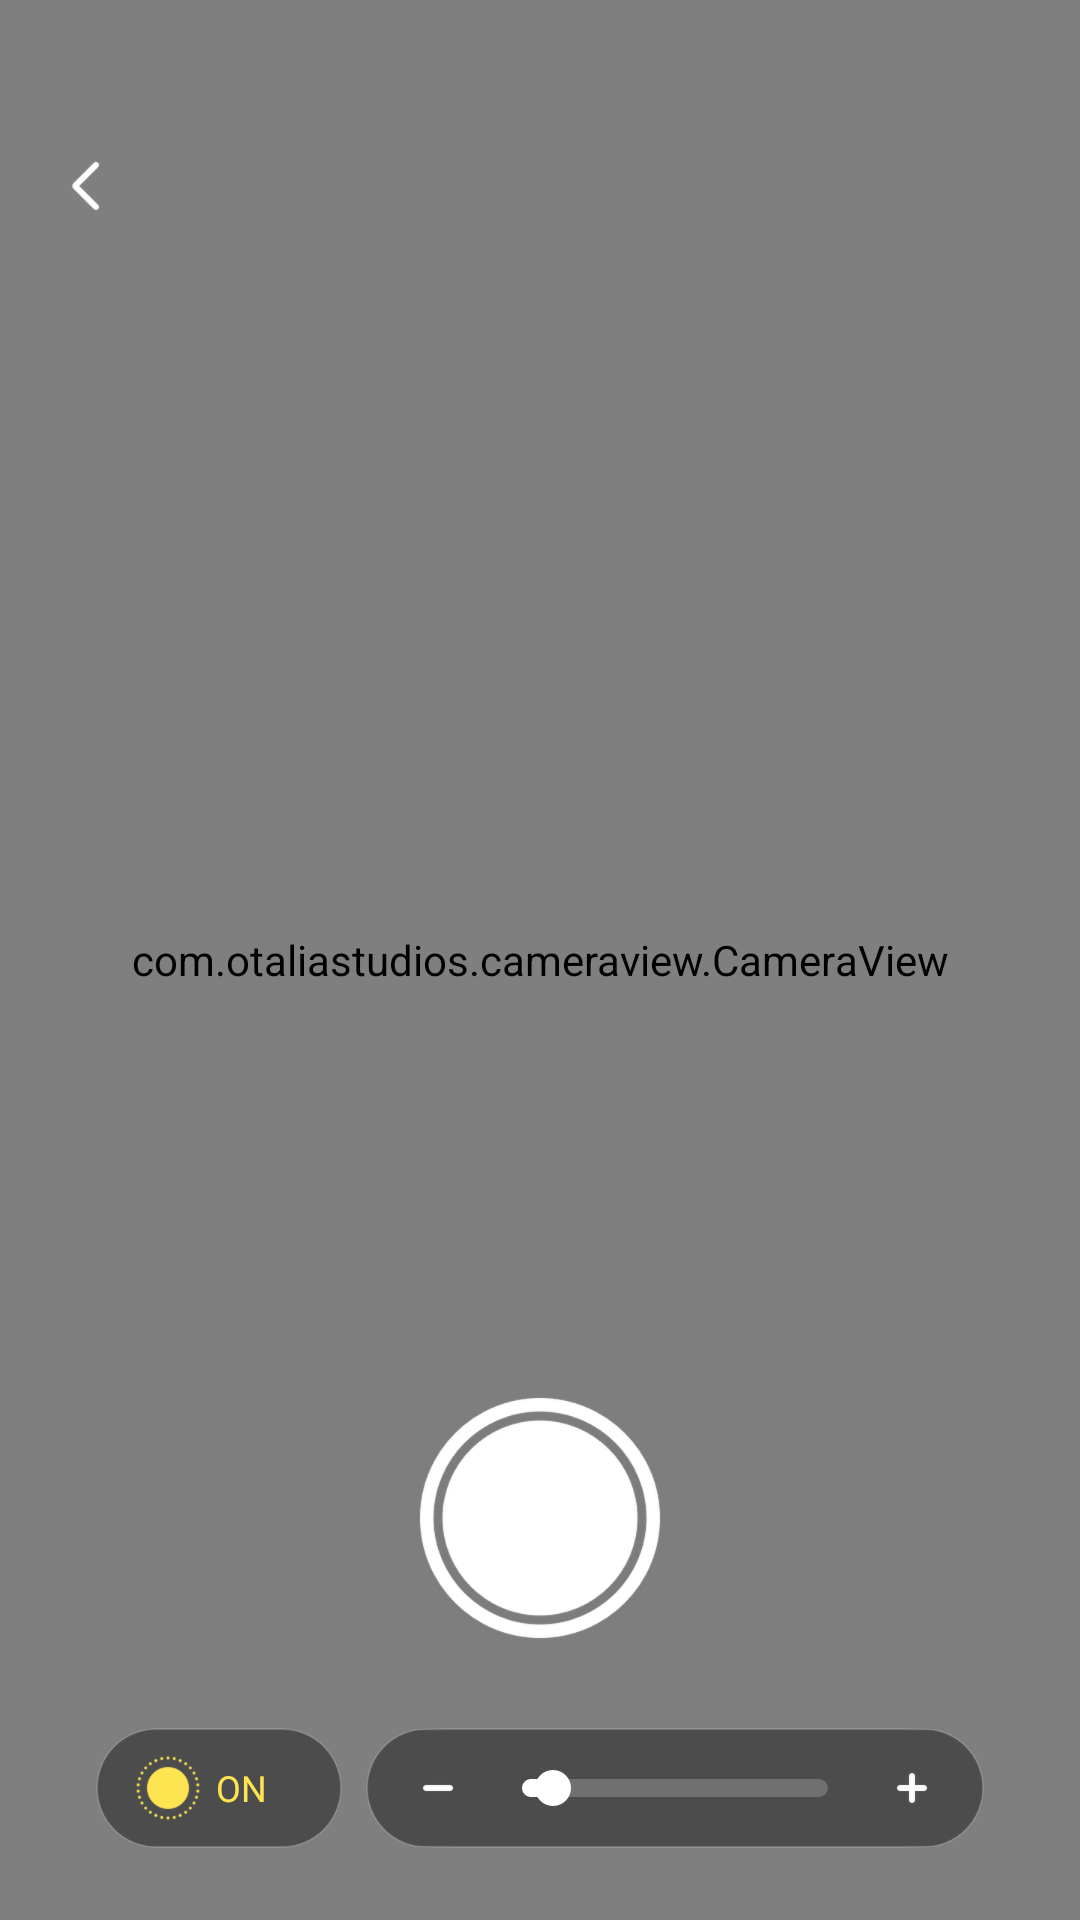

Icon bounding boxes for this 1080px x 1920px phone screenshot, format (x1, y1, x2, y2):
back: (72, 162, 99, 210)
capture: (420, 1398, 660, 1638)
